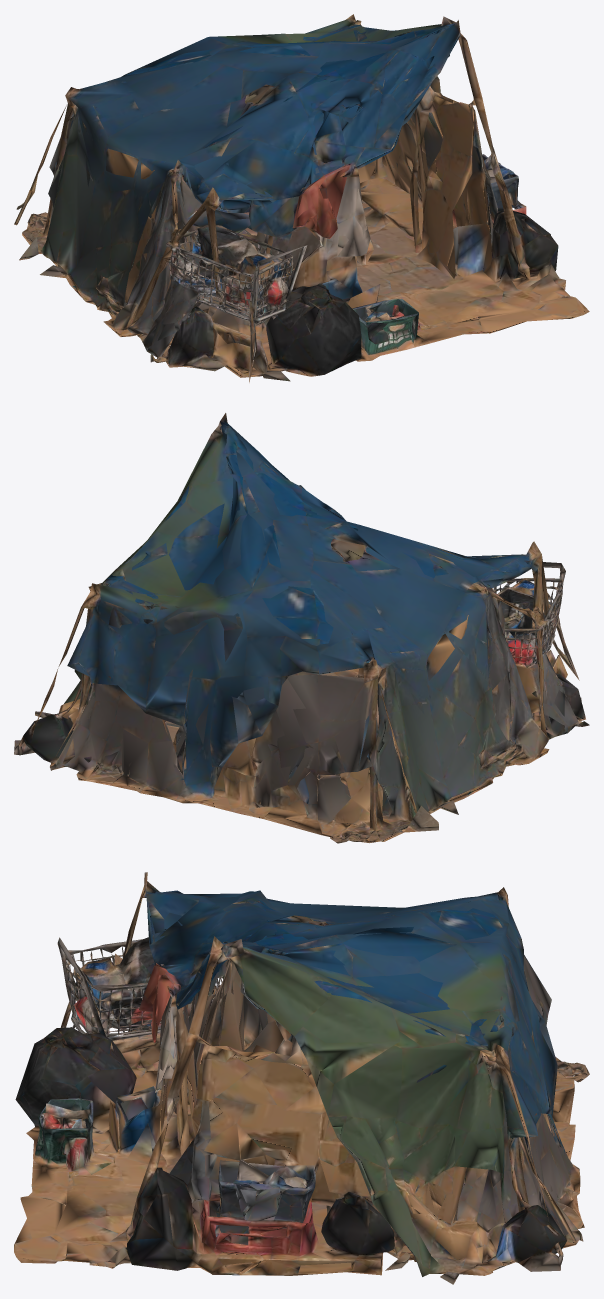
The model's file is cambuche.opt.glb.
3 renders of one model, top to bottom at view 1: azimuth 30°, elevation 25°; view 2: azimuth 150°, elevation 25°; view 3: azimuth 270°, elevation 25°, orthographic. The views are drawn at different scales.
Size of the model in its own units: 1.8 by 1.01 by 1.77.
1 material, 1 textured.
